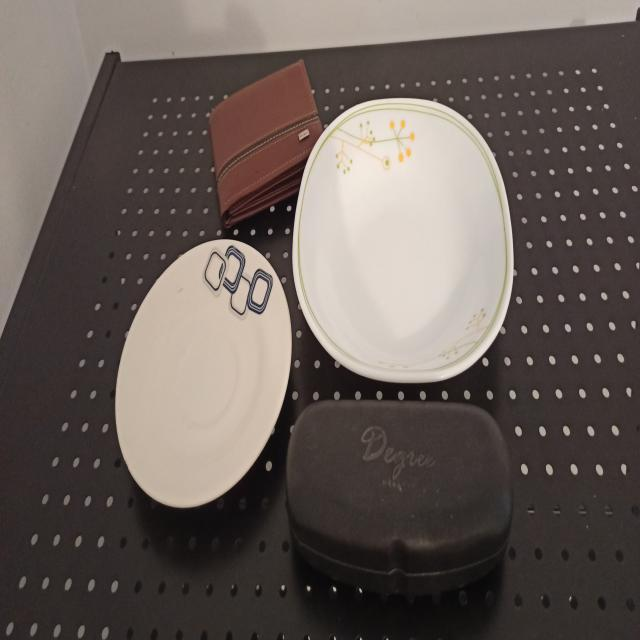ceramic plate: (276, 86, 524, 398), (108, 217, 298, 538)
